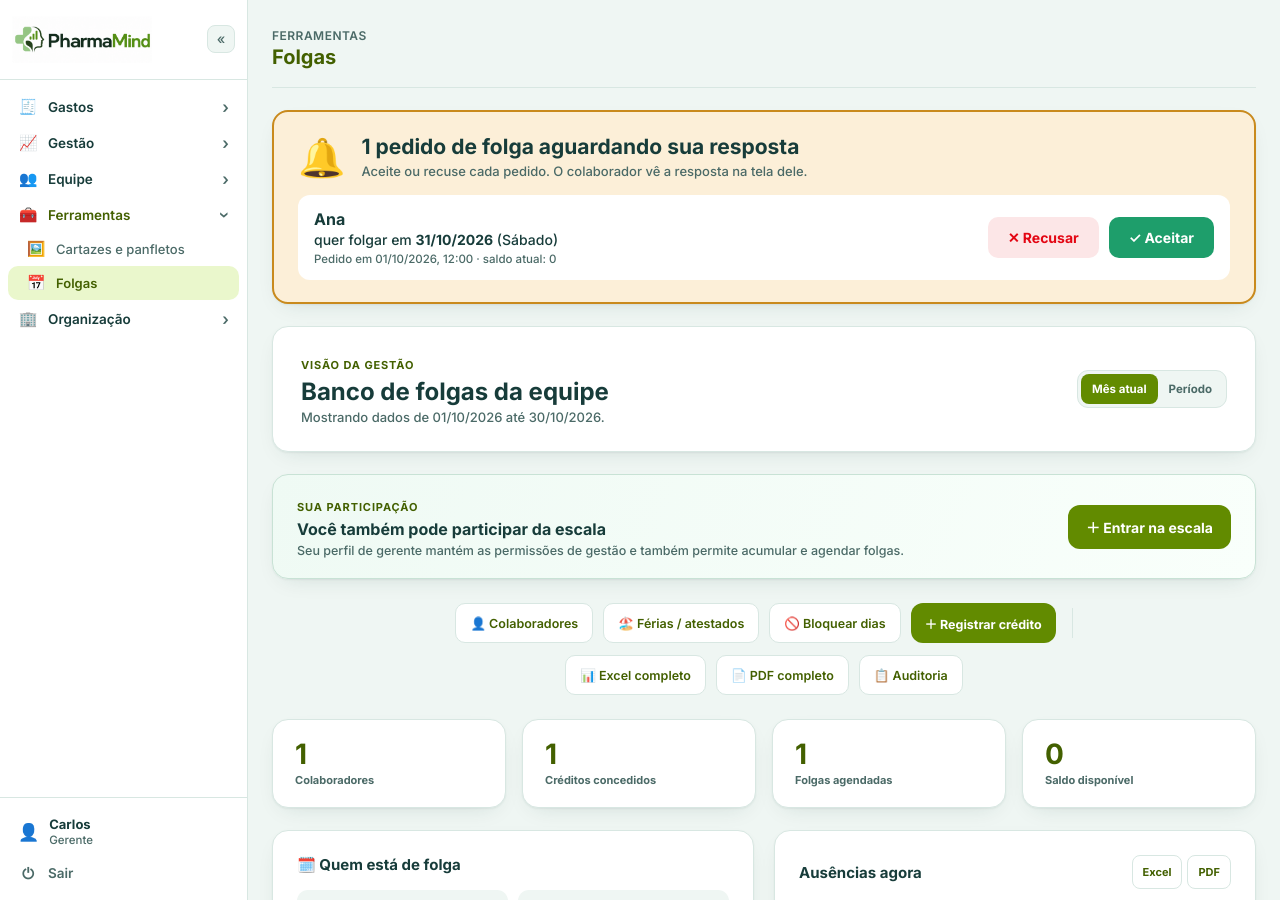
Scenario: FolgasPage › mostra o aviso de pedidos pendentes e a gerência aceita
Expected: the heading "1 pedido de folga aguardando sua resposta" is shown, top-left (361, 134), bottom-right (799, 159)
Step 1. Click the button "✓ Aceitar" → (1161, 238), box top-left (1109, 217), bottom-right (1214, 258)
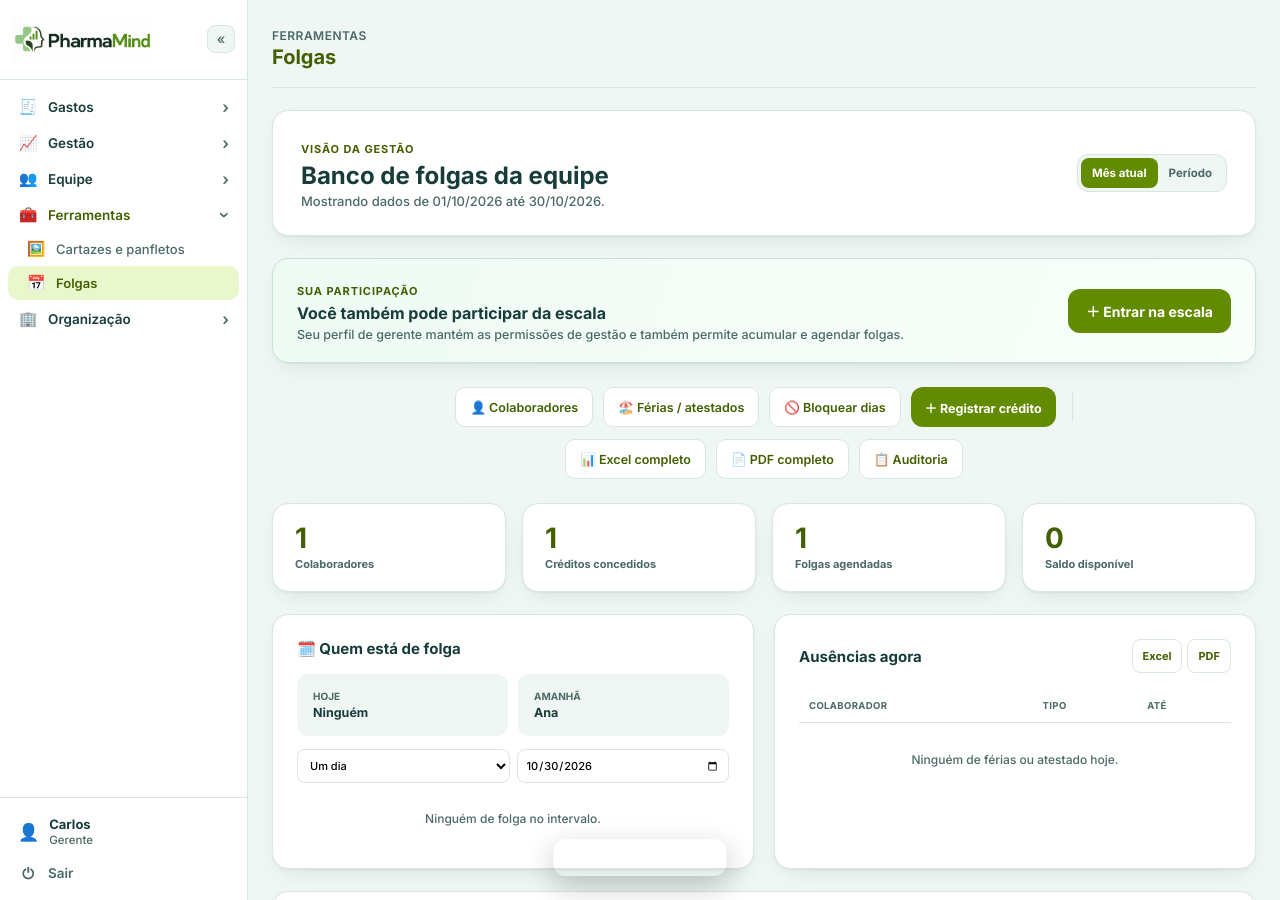
Result: the heading "1 pedido de folga aguardando sua resposta" is gone
